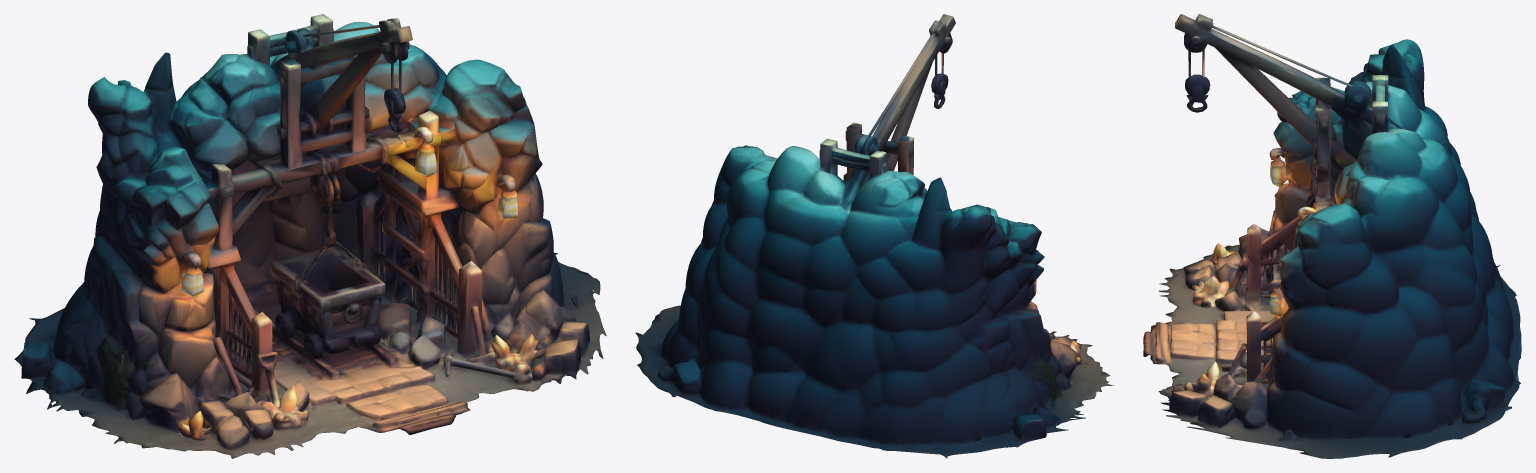
Rendered from mine.glb.
3 renders of one model, left to right at view 1: azimuth 30°, elevation 25°; view 2: azimuth 150°, elevation 25°; view 3: azimuth 270°, elevation 25°, orthographic. The views are drawn at different scales.
Parts seen in each view (by area): view 1: material; view 2: material; view 3: material.
Part boxes in pixels (x1,y1,x2,y2): material: [14, 14, 606, 458]; material: [635, 14, 1114, 458]; material: [1143, 14, 1521, 458].
Bounding box in the file's own units: 0.9928 × 0.6725 × 0.6985.
Materials: 1 (1 with a texture image).
